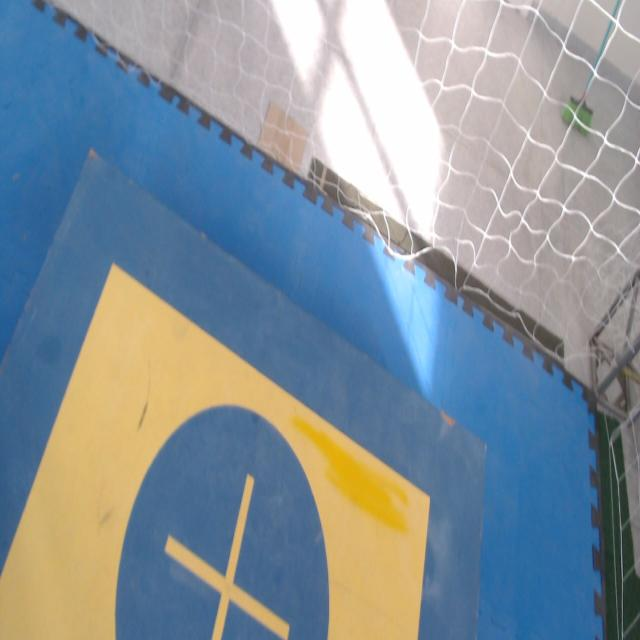base_inicio: (0, 261, 431, 639)
